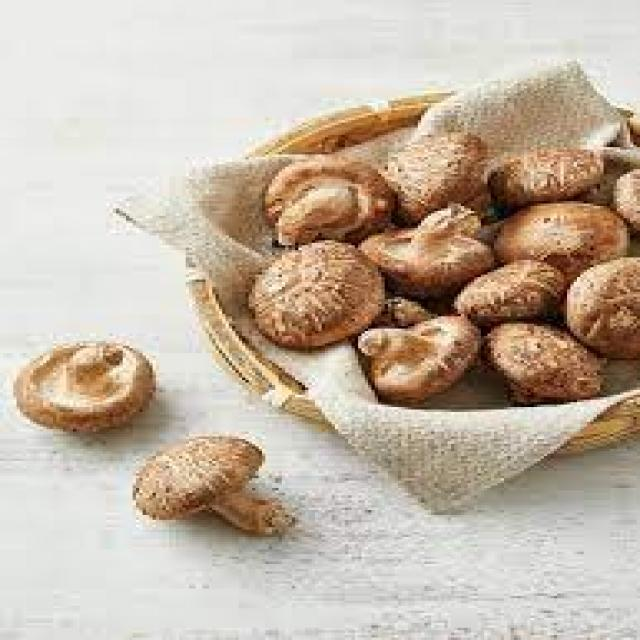Mushroom: (133, 436, 295, 537), (13, 343, 156, 433), (361, 206, 497, 298), (265, 157, 398, 246), (352, 313, 478, 400)
